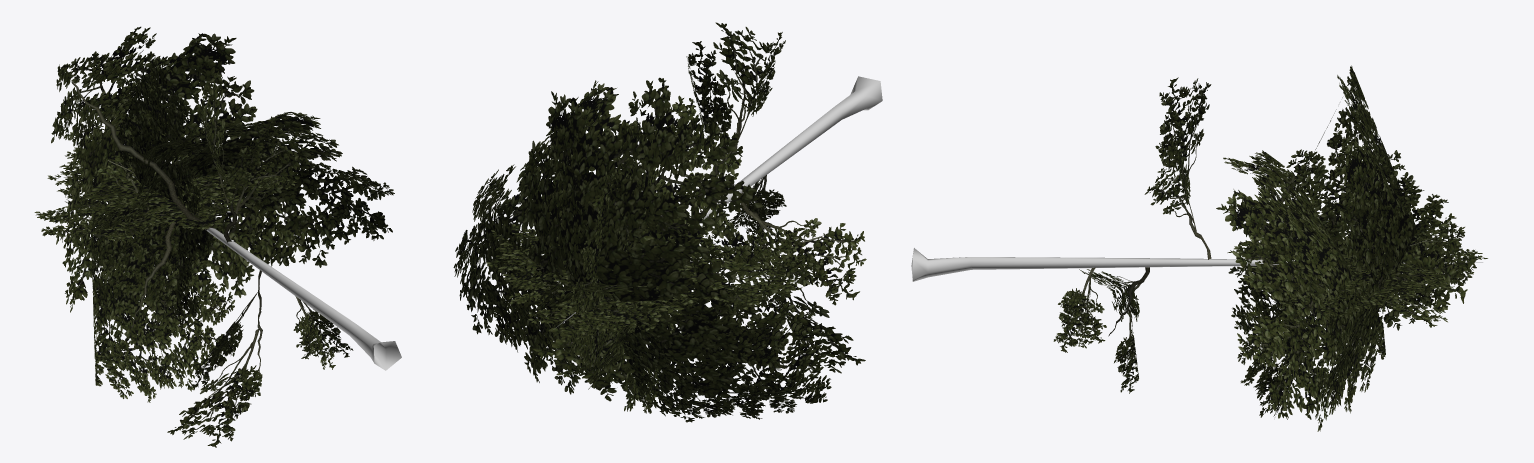
File: Tree_02_i.fbx
The picture shows the model from 3 angles, left to right: view 1: azimuth 30°, elevation 25°; view 2: azimuth 150°, elevation 25°; view 3: azimuth 270°, elevation 25°; orthographic projection. The views are drawn at different scales.
Visible parts, largest first — view 1: MEP_Leafs_02_i, MEP_TreeBark_01_i; view 2: MEP_Leafs_02_i, MEP_TreeBark_01_i; view 3: MEP_Leafs_02_i, MEP_TreeBark_01_i.
Part boxes in pixels (left/top/right/bottom): MEP_Leafs_02_i: left=34, top=26, right=394, bottom=447; MEP_TreeBark_01_i: left=132, top=174, right=401, bottom=370; MEP_Leafs_02_i: left=453, top=22, right=866, bottom=422; MEP_TreeBark_01_i: left=553, top=76, right=882, bottom=329; MEP_Leafs_02_i: left=1053, top=65, right=1487, bottom=431; MEP_TreeBark_01_i: left=911, top=248, right=1482, bottom=281.
Bounding box in the file's own units: 24.8 × 22.78 × 35.26.
